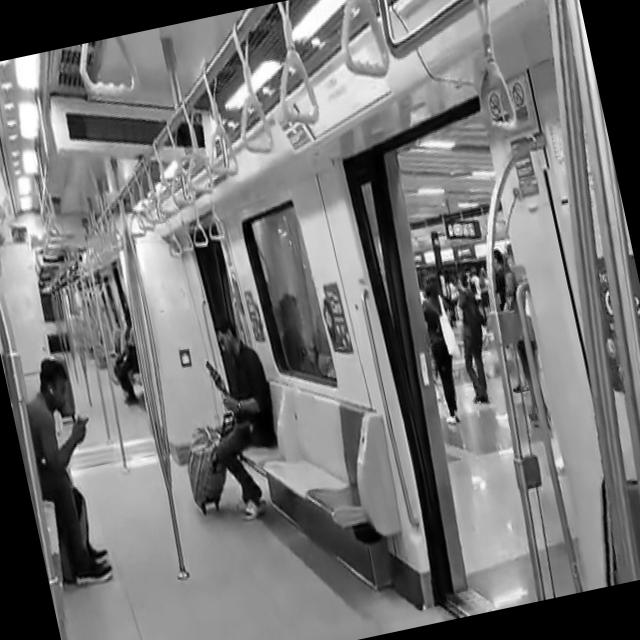bus-door: (344, 151, 451, 597)
